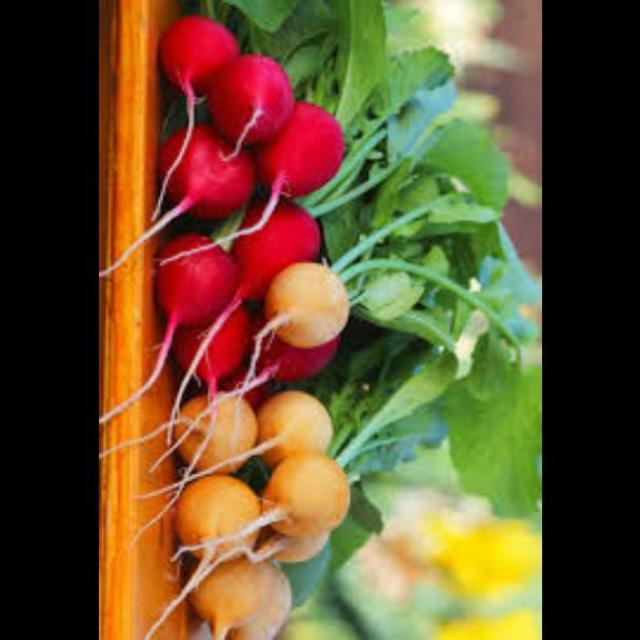rediska: (264, 250, 362, 363), (231, 198, 329, 308), (256, 98, 350, 207), (168, 554, 282, 640), (152, 228, 246, 330), (165, 476, 268, 568), (256, 448, 357, 541), (161, 387, 260, 480), (168, 121, 266, 214), (250, 389, 348, 472), (212, 48, 294, 144), (158, 10, 248, 97), (162, 312, 252, 392), (229, 561, 304, 639), (251, 336, 345, 386), (251, 522, 343, 570)
